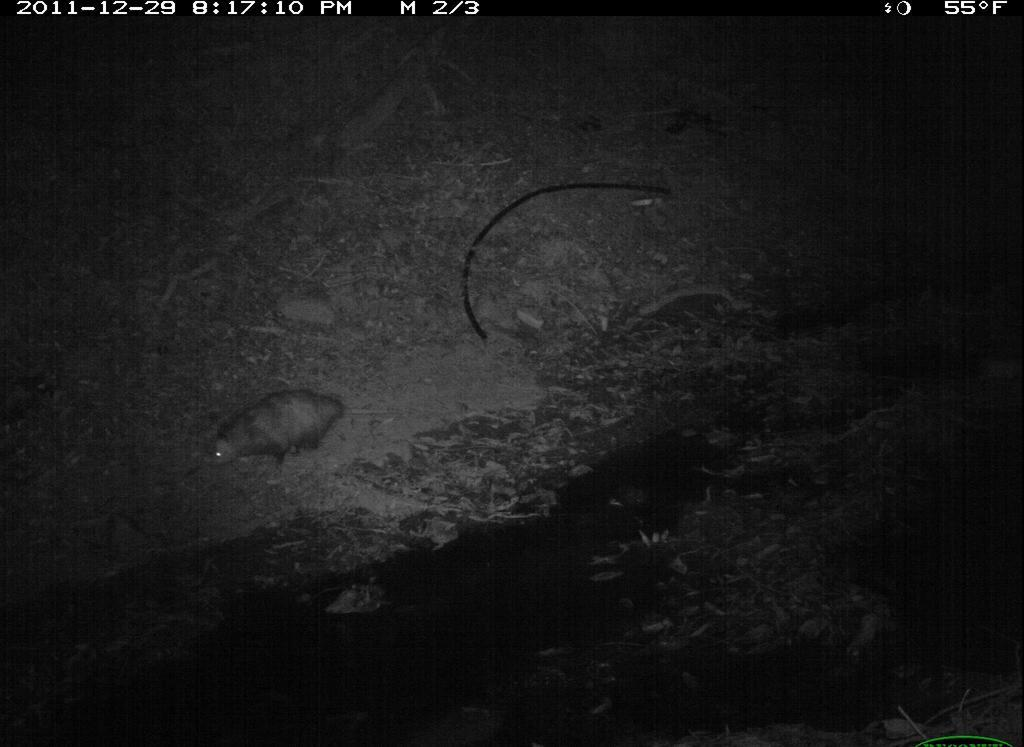opossum: (193, 378, 377, 487)
